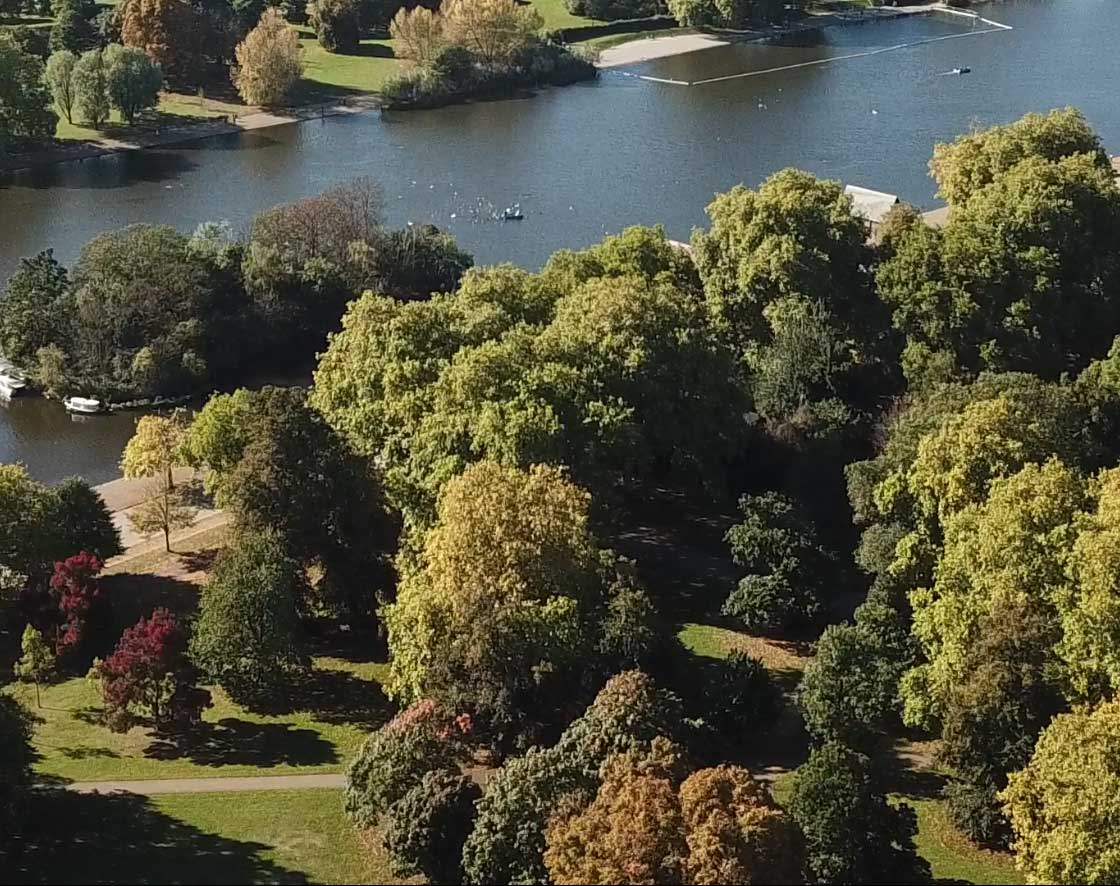water: (486, 112, 760, 156)
